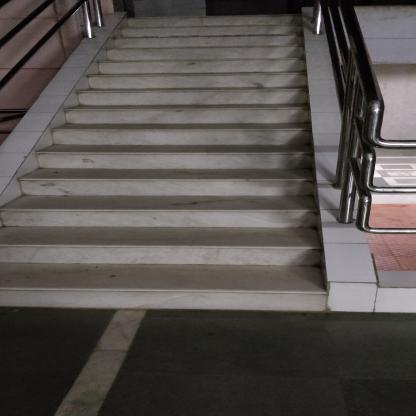stairs: (37, 151, 308, 326)
